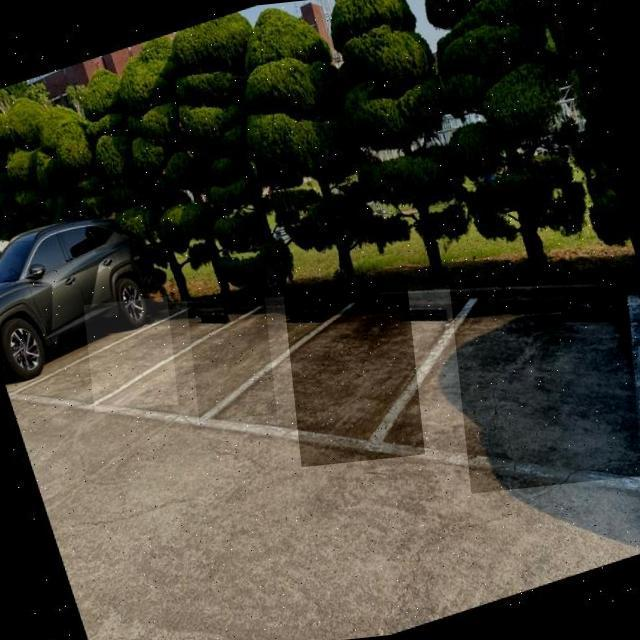empty: (449, 264, 640, 493), (283, 277, 424, 467), (186, 289, 277, 421), (84, 296, 178, 412)
